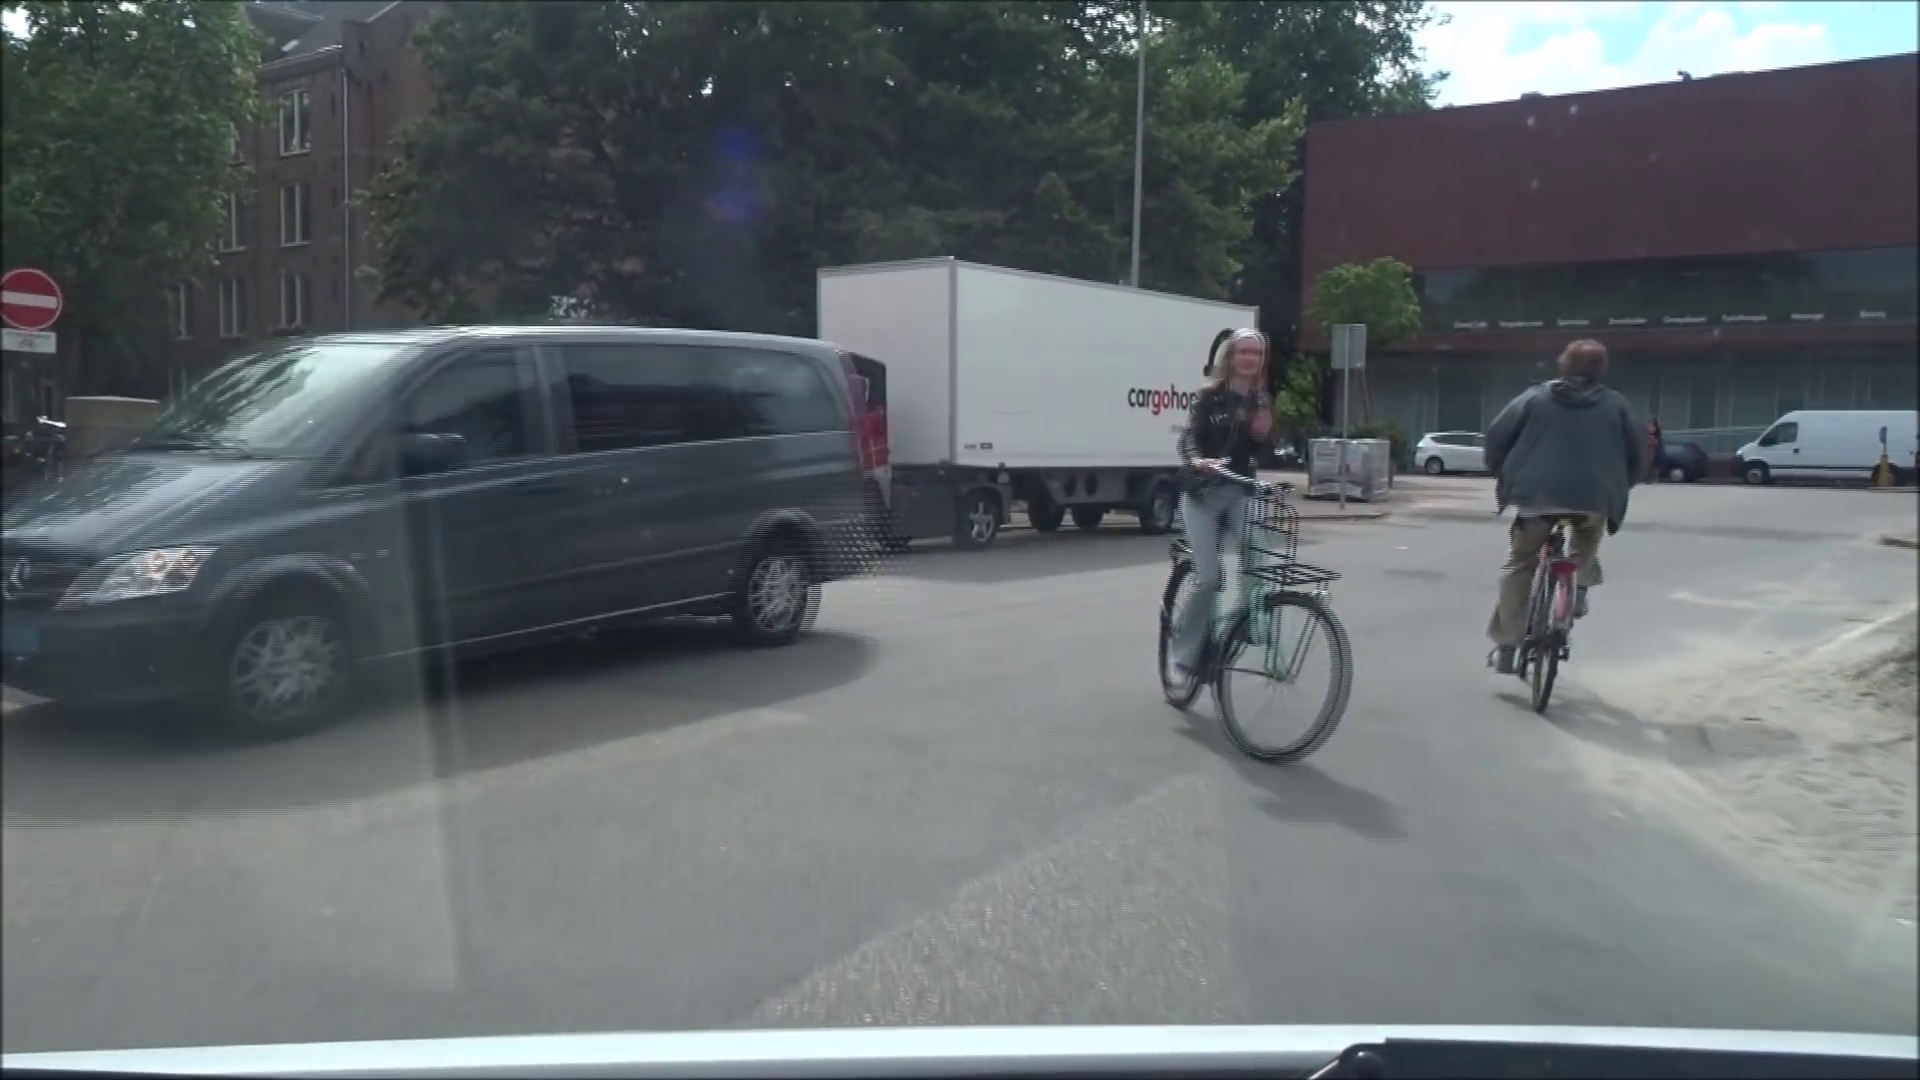cyclist_back: (1478, 324, 1638, 725)
cyclist_front: (1154, 292, 1358, 765)
